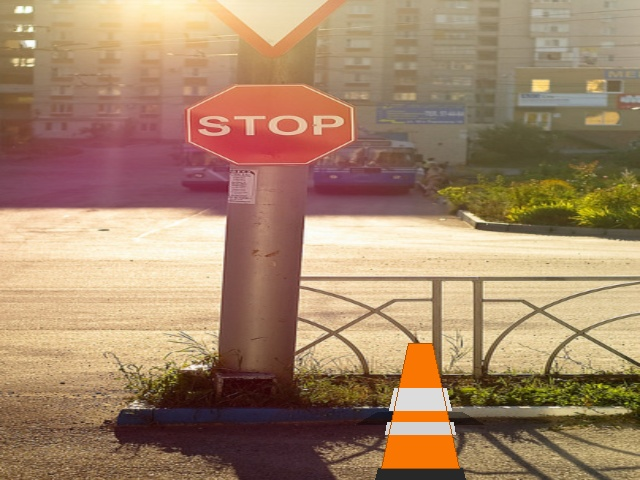traffic-cone: (374, 343, 466, 479)
